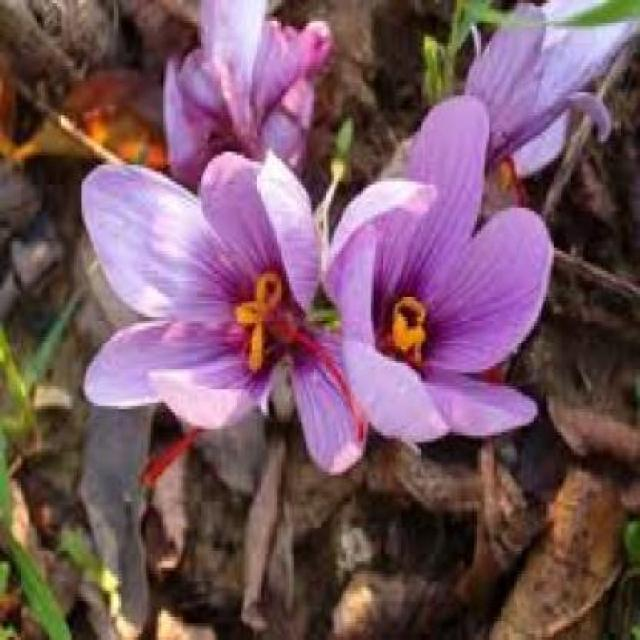saffron open: (85, 154, 365, 471), (328, 98, 552, 441), (465, 22, 635, 161)
